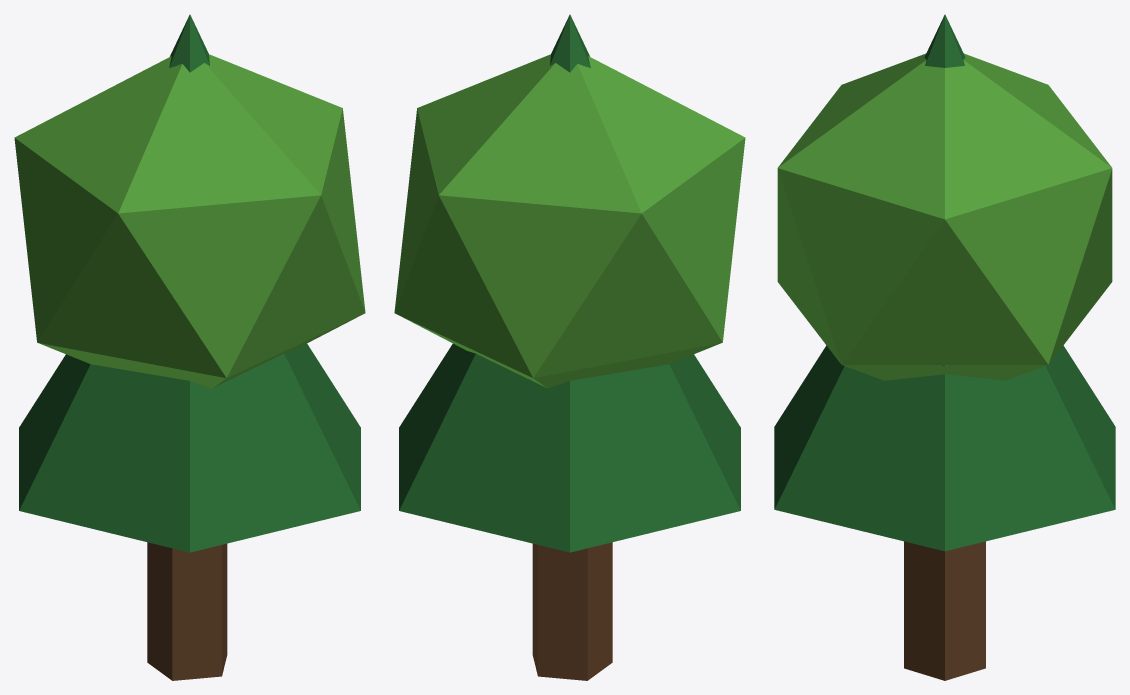
The model's file is trees_earthlike.glb.
3 renders of one model, left to right at view 1: azimuth 30°, elevation 25°; view 2: azimuth 150°, elevation 25°; view 3: azimuth 270°, elevation 25°, orthographic.
Parts seen in each view (by area): view 1: RoundTree, Pine; view 2: RoundTree, Pine; view 3: RoundTree, Pine.
Boxes of the visible parts, bbox=[...] form: RoundTree: bbox=[14, 54, 365, 388]; Pine: bbox=[19, 14, 360, 680]; RoundTree: bbox=[394, 54, 745, 388]; Pine: bbox=[399, 14, 740, 680]; RoundTree: bbox=[777, 53, 1112, 380]; Pine: bbox=[774, 14, 1115, 680].
Size of the model in its own units: 1.1 by 2 by 0.9526.
